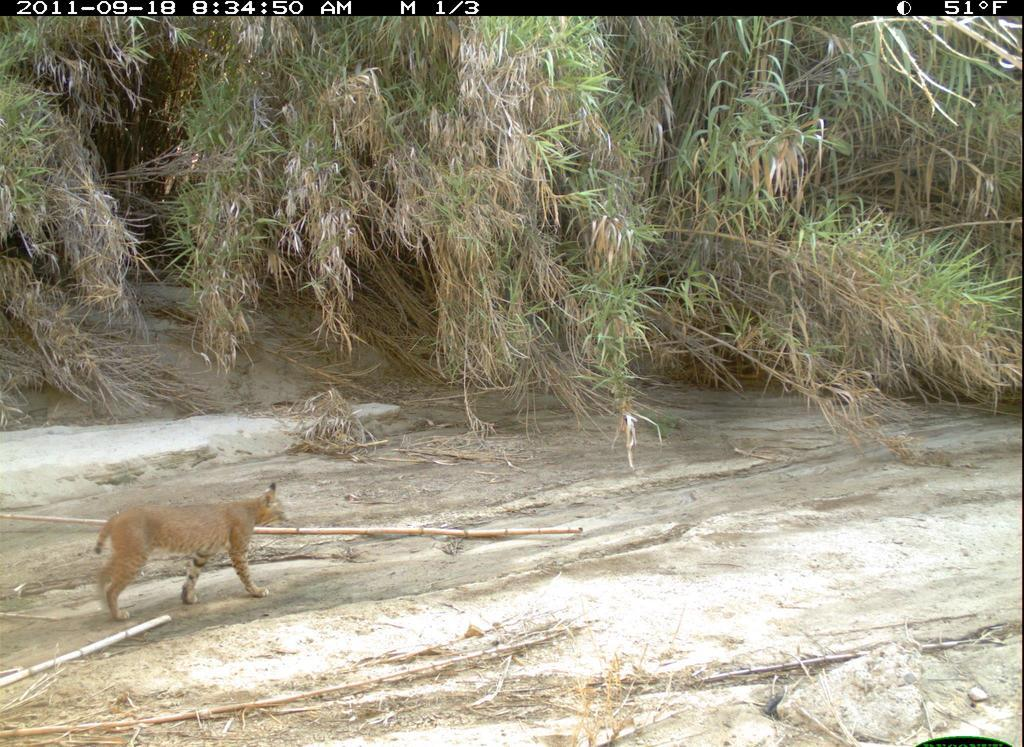bobcat: (89, 474, 313, 641)
